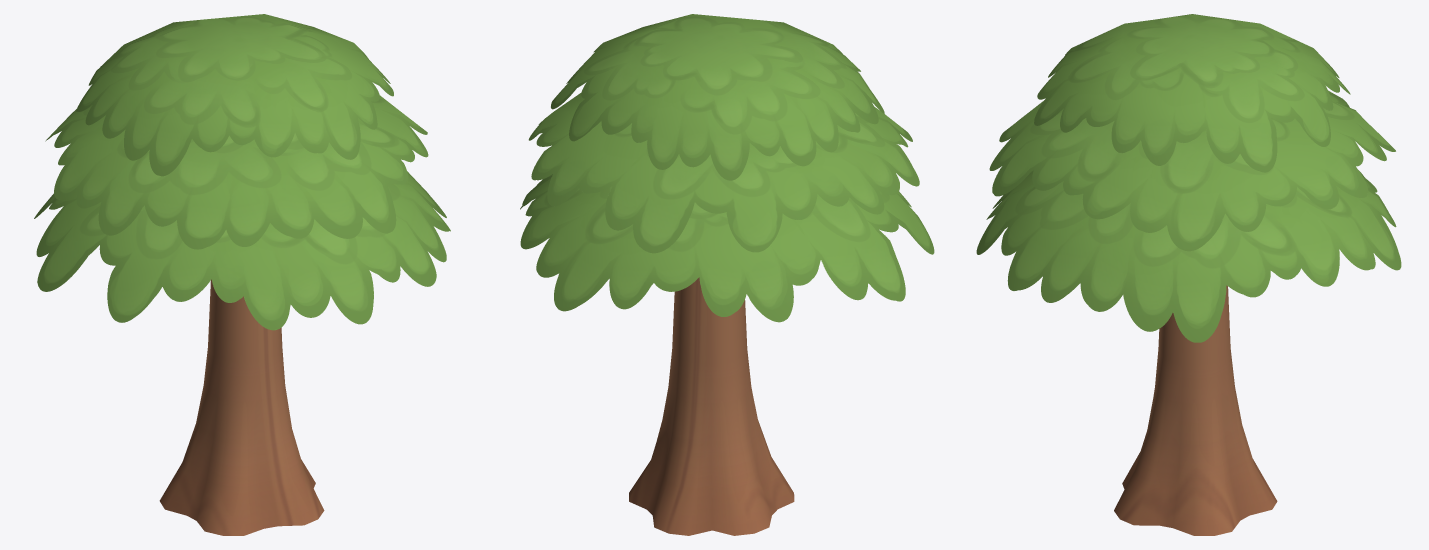
The model's file is elyseTree_1.fbx.
3 views of the same model, side by side, from view 1: azimuth 30°, elevation 25°; view 2: azimuth 150°, elevation 25°; view 3: azimuth 270°, elevation 25° (orthographic).
Parts seen in each view (by area): view 1: foliage_lowP, trunk_lowP; view 2: foliage_lowP, trunk_lowP; view 3: foliage_lowP, trunk_lowP.
Boxes of the visible parts, bbox=[...] form: foliage_lowP: bbox=[34, 14, 450, 330]; trunk_lowP: bbox=[159, 279, 324, 535]; foliage_lowP: bbox=[520, 14, 934, 322]; trunk_lowP: bbox=[629, 277, 794, 535]; foliage_lowP: bbox=[976, 14, 1401, 342]; trunk_lowP: bbox=[1114, 285, 1277, 535].
Bounding box in the file's own units: 158 × 180 × 157.
2 materials, 2 textured.
